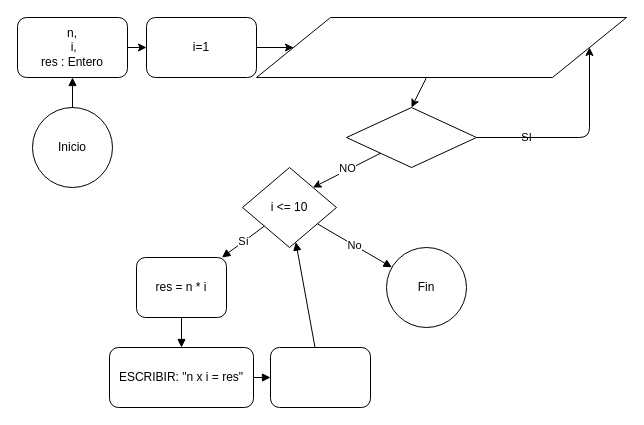
Some shapes in this 644 by 425 pixel diagram are drawn without their labels. The centre of each missing label's shape, as x and y in pixels:
ESCRIBIR: "Introduce un número entre 0 y 10" LEER: n: point (441, 47)
i = i + 1: point (320, 377)
n<=0 OR >10: point (411, 137)
